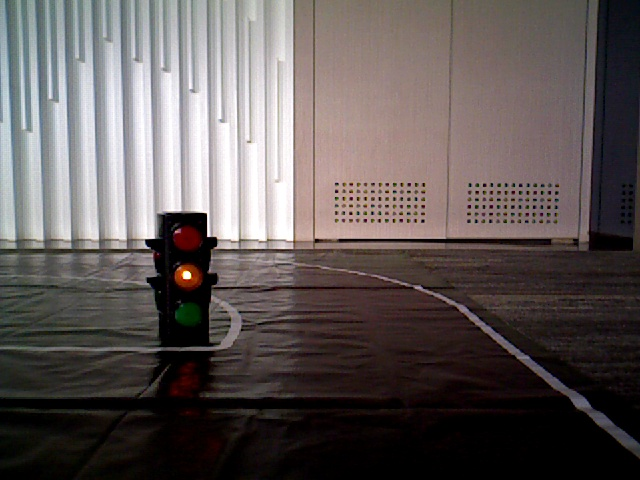yellow: (160, 219, 204, 334)
